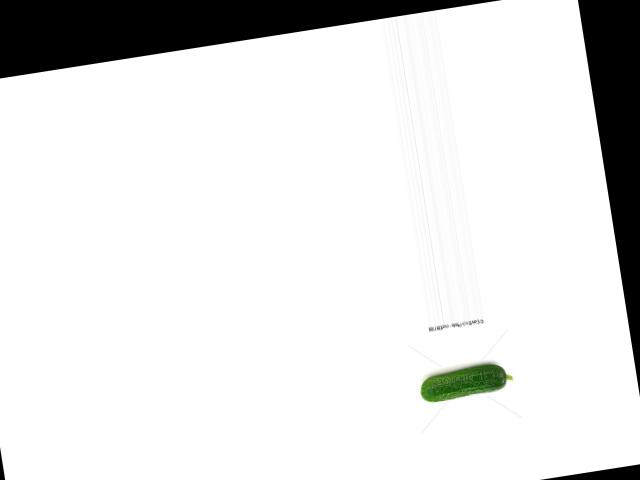cucumber: (417, 360, 514, 403)
